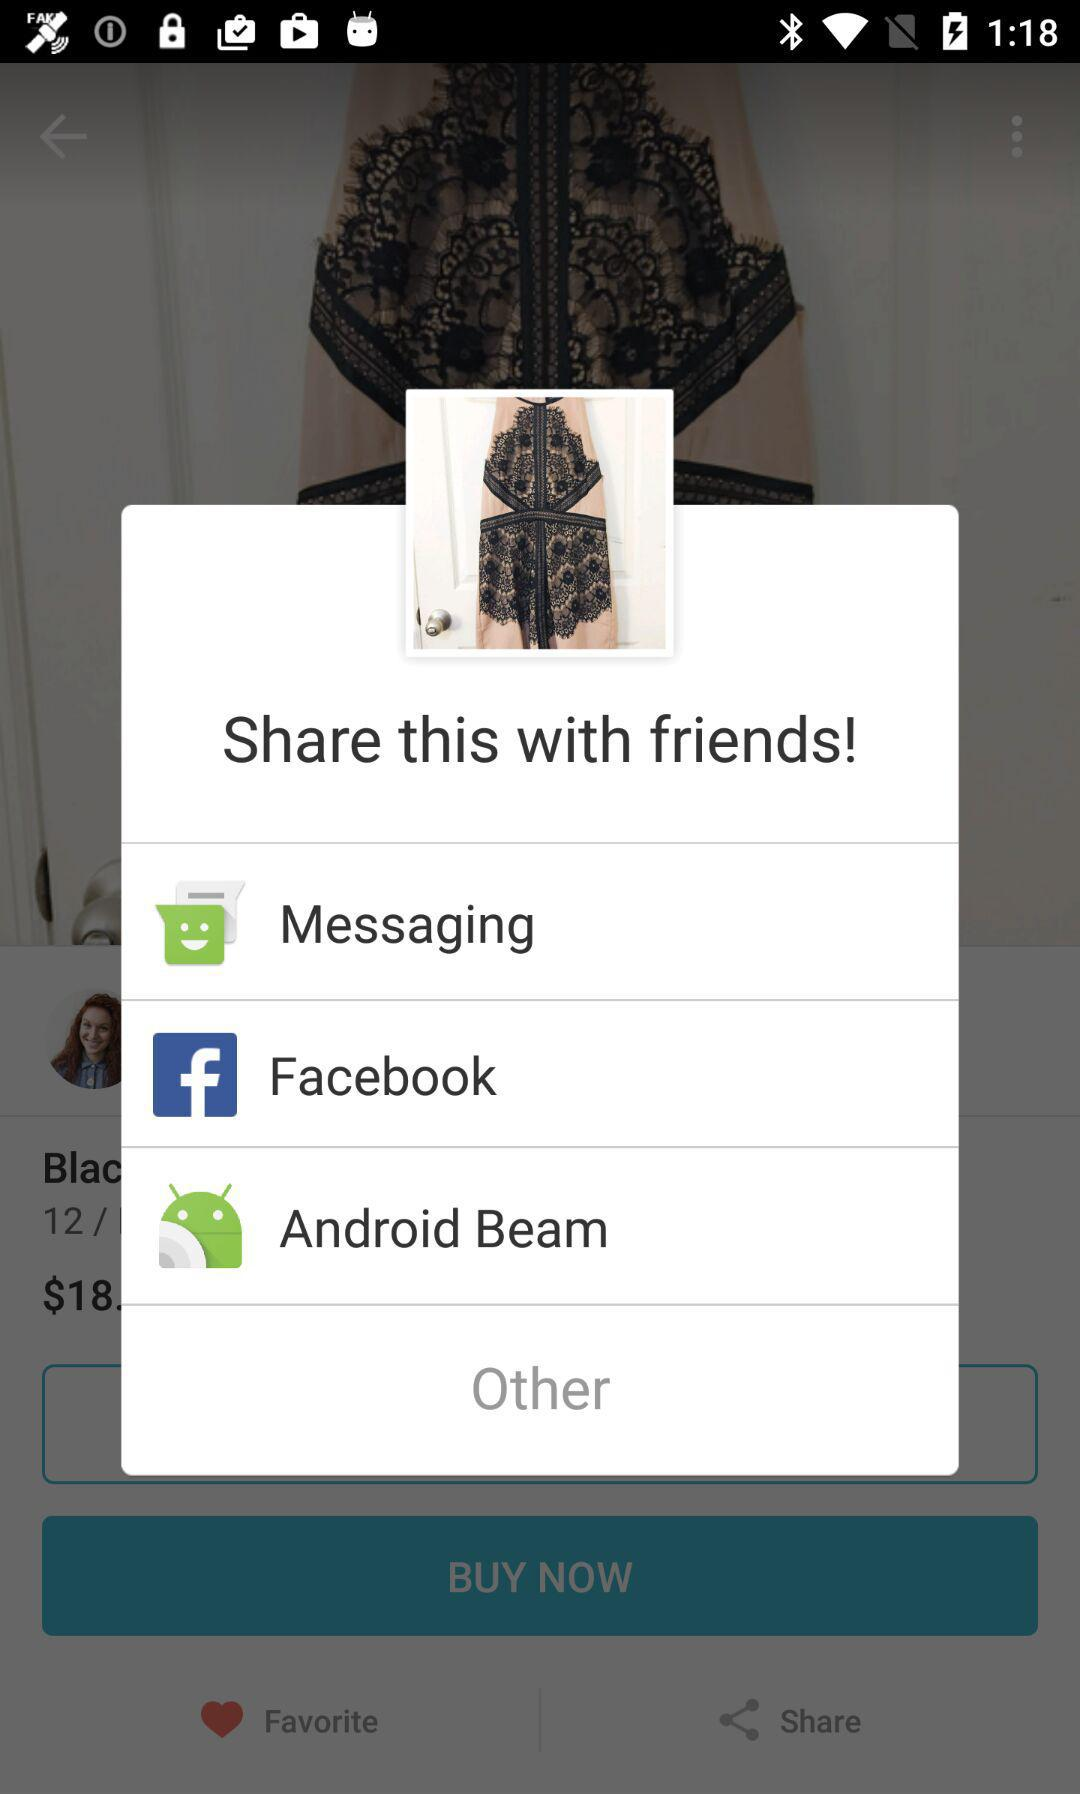Icon: (152, 1032, 238, 1117), (38, 113, 88, 161), (719, 1698, 760, 1741), (200, 1700, 243, 1739)
Image: (406, 390, 676, 660), (155, 882, 249, 966), (159, 1179, 243, 1269)
Modal: (120, 390, 960, 1477)
Text: (223, 712, 856, 766), (283, 902, 536, 957), (281, 1207, 607, 1249), (272, 1055, 498, 1097), (266, 1708, 380, 1734), (780, 1708, 861, 1734)
TextButton: (120, 1304, 960, 1476), (42, 1515, 1039, 1636)
UpperTaskBar: (1, 1, 1080, 64)
